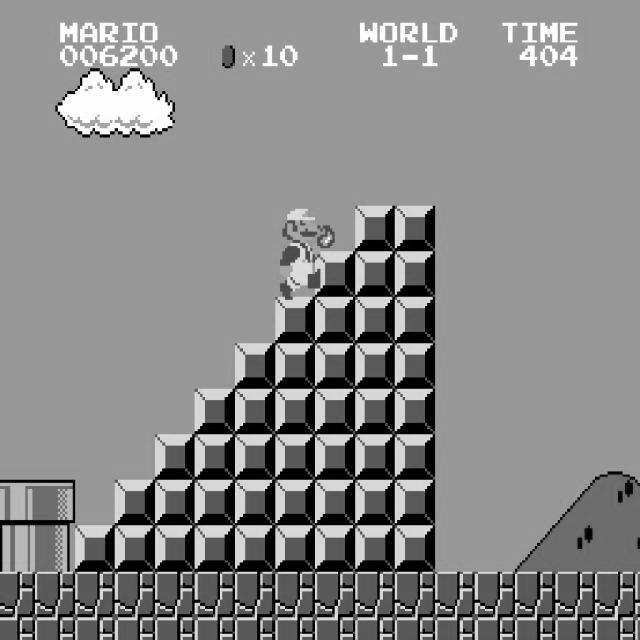14- pipe: (34, 526, 76, 572), (0, 526, 35, 572)
15- pipe_head: (34, 480, 76, 526), (0, 480, 35, 526)
17- undestructible_block: (34, 572, 76, 618), (74, 572, 116, 618), (114, 572, 156, 618), (154, 572, 196, 618), (194, 572, 236, 618), (234, 572, 276, 618), (274, 572, 316, 618), (314, 572, 356, 618), (354, 572, 396, 618), (394, 572, 436, 618), (434, 572, 476, 618), (474, 572, 516, 618), (514, 572, 556, 618), (554, 572, 596, 618), (594, 572, 636, 618), (0, 572, 35, 618), (34, 617, 76, 640), (74, 617, 116, 640), (114, 617, 156, 640), (154, 617, 196, 640), (194, 617, 236, 640), (234, 617, 276, 640), (274, 617, 316, 640), (314, 617, 356, 640), (354, 617, 396, 640), (394, 617, 436, 640), (434, 617, 476, 640), (474, 617, 516, 640), (514, 617, 556, 640), (554, 617, 596, 640), (594, 617, 636, 640), (0, 617, 35, 640), (635, 572, 640, 618), (635, 617, 640, 640)
4- fire_mario: (277, 206, 320, 300)
5- fireball: (315, 222, 335, 248)
9- hard_block: (74, 526, 116, 572), (114, 480, 156, 526), (114, 526, 156, 572), (154, 434, 196, 480), (154, 480, 196, 526), (154, 526, 196, 572), (194, 388, 236, 434), (194, 434, 236, 480), (194, 480, 236, 526), (194, 526, 236, 572), (234, 388, 276, 434), (234, 434, 276, 480), (234, 480, 276, 526), (234, 526, 276, 572), (274, 297, 316, 343), (274, 388, 316, 434), (274, 434, 316, 480), (274, 480, 316, 526), (274, 526, 316, 572), (314, 252, 356, 298), (314, 297, 356, 343), (314, 388, 356, 434), (314, 434, 356, 480), (314, 480, 356, 526), (314, 526, 356, 572), (354, 252, 396, 298), (354, 297, 396, 343), (354, 388, 396, 434), (354, 434, 396, 480), (354, 480, 396, 526), (354, 526, 396, 572), (394, 252, 436, 298), (394, 297, 436, 343), (394, 388, 436, 434), (394, 434, 436, 480), (394, 480, 436, 526), (394, 526, 436, 572), (234, 343, 276, 388), (274, 343, 316, 388), (314, 343, 356, 388), (354, 206, 396, 251), (354, 343, 396, 388), (394, 206, 436, 251), (394, 343, 436, 388)
